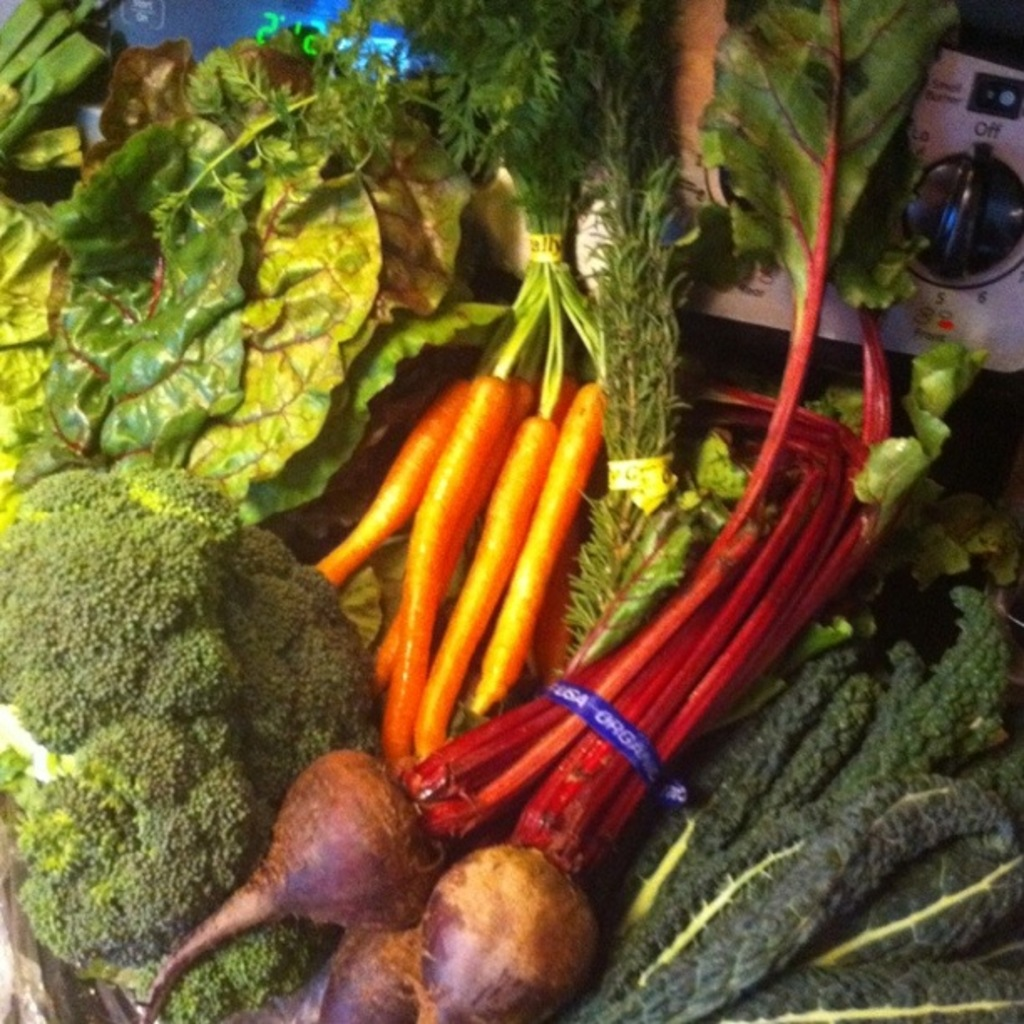Carrot: (133, 0, 622, 771)
